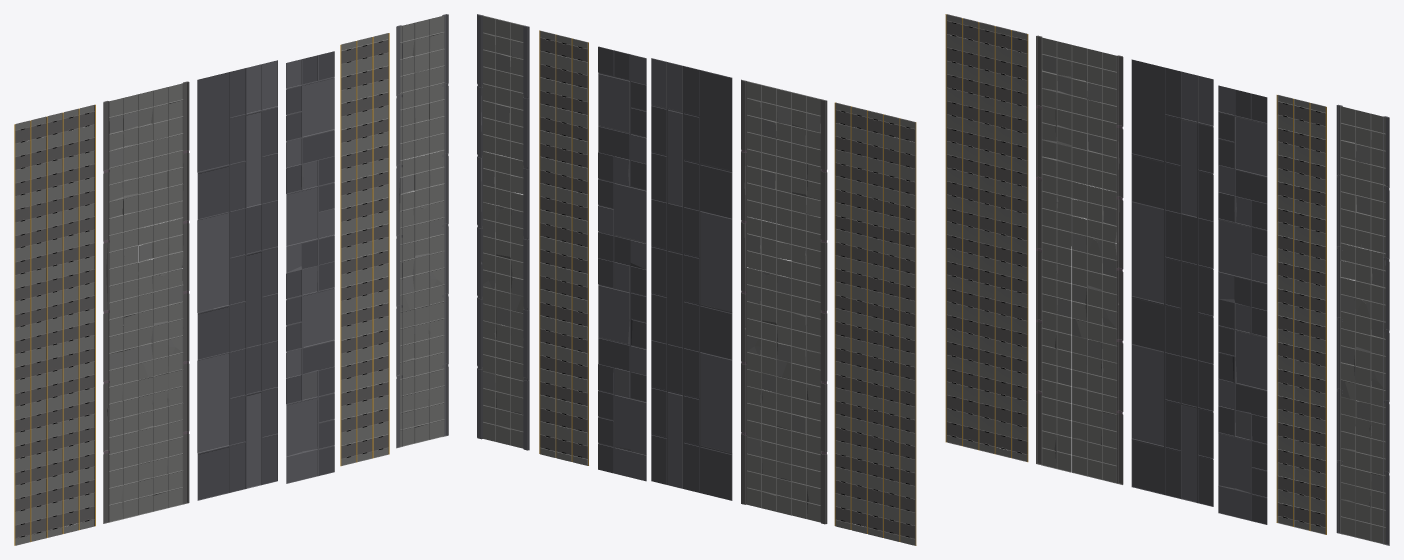
The model's file is InfinityRunnerEnvironmentBlocks.fbx.
3 views of the same model, side by side, from view 1: azimuth 30°, elevation 25°; view 2: azimuth 150°, elevation 25°; view 3: azimuth 330°, elevation 25° (orthographic).
Visible parts, largest first — view 1: Block_5_Lane_1, Block_5_Lane_2, Block_5_Lane_03, Block_3_Lane_2, Block_3_Lane_3, Block_3_Lane_1; view 2: Block_5_Lane_1, Block_5_Lane_2, Block_5_Lane_03, Block_3_Lane_2, Block_3_Lane_3, Block_3_Lane_1; view 3: Block_5_Lane_1, Block_5_Lane_2, Block_5_Lane_03, Block_3_Lane_2, Block_3_Lane_3, Block_3_Lane_1.
Part boxes in pixels (x1,y1,x2,y2): Block_5_Lane_1: (103,81,189,523); Block_5_Lane_2: (14,104,95,545); Block_5_Lane_03: (197,60,277,500); Block_3_Lane_2: (396,14,448,448); Block_3_Lane_3: (340,33,389,466); Block_3_Lane_1: (286,51,334,483); Block_5_Lane_1: (741,79,827,524); Block_5_Lane_2: (834,102,916,545); Block_5_Lane_03: (651,58,732,500); Block_3_Lane_2: (477,14,529,450); Block_3_Lane_3: (539,30,588,465); Block_3_Lane_1: (598,46,646,481); Block_5_Lane_1: (1036,35,1123,484); Block_5_Lane_2: (945,14,1028,462); Block_5_Lane_03: (1131,59,1213,506); Block_3_Lane_2: (1336,104,1389,545); Block_3_Lane_3: (1276,95,1326,534); Block_3_Lane_1: (1218,85,1267,524).
Bounding box in the file's own units: 5410 × 5068 × 86.66.
